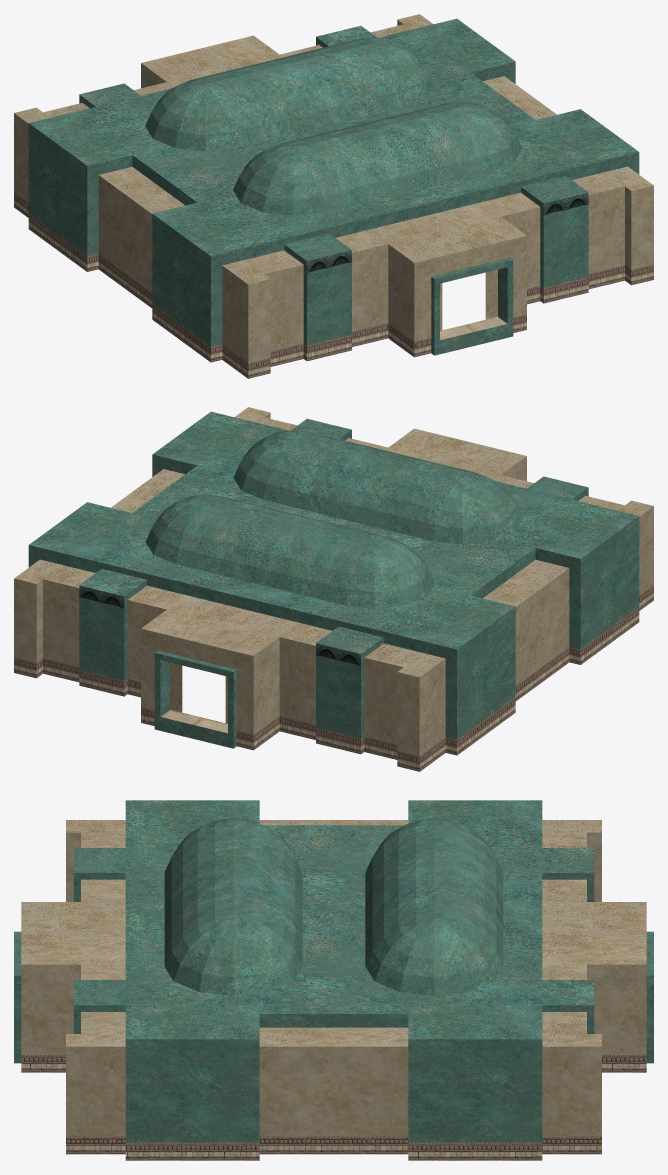
The model's file is mun_nboo_hospital_s02_r0_mesh_l0.fbx.
3 renders of one model, top to bottom at view 1: azimuth 30°, elevation 25°; view 2: azimuth 150°, elevation 25°; view 3: azimuth 270°, elevation 25°, orthographic. The views are drawn at different scales.
Visible parts, largest first — view 1: mesh_node; view 2: mesh_node; view 3: mesh_node.
Boxes of the visible parts, x1,y1,x2,y2 form: mesh_node: (14, 14, 653, 378); mesh_node: (14, 407, 653, 771); mesh_node: (14, 800, 653, 1160).
Size of the model in its own units: 38 by 12.56 by 43.
